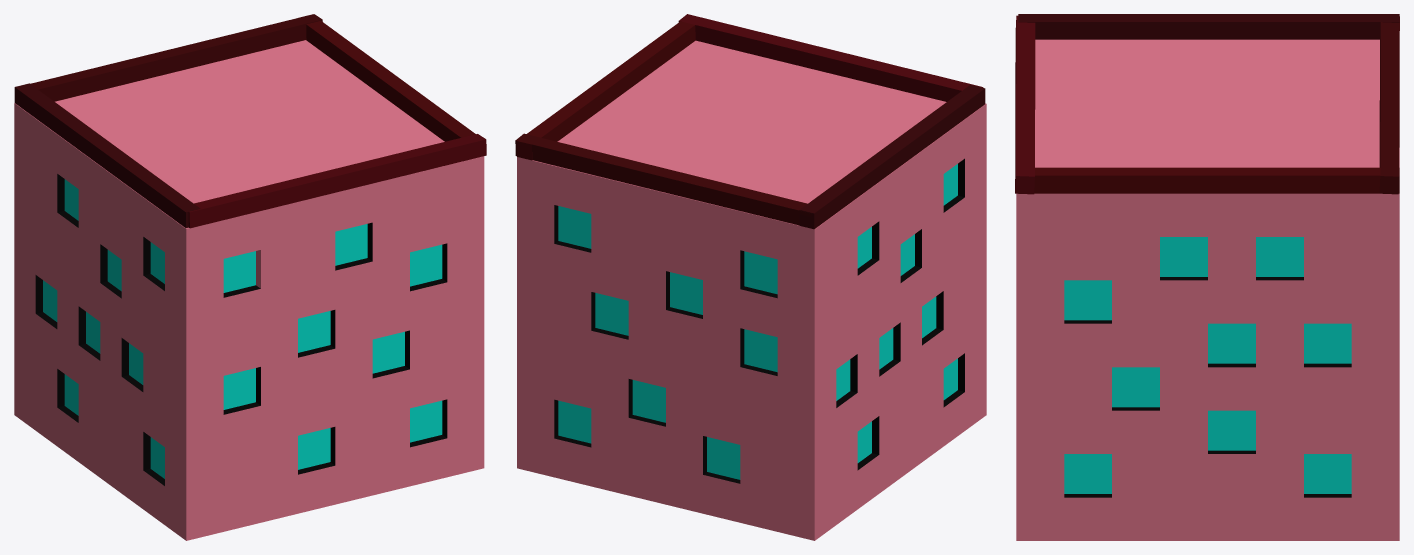
File: building 12 (pink).fbx
The picture shows the model from 3 angles, left to right: view 1: azimuth 30°, elevation 25°; view 2: azimuth 150°, elevation 25°; view 3: azimuth 270°, elevation 25°; orthographic projection. The views are drawn at different scales.
Visible parts, largest first — view 1: Cube, Cube.004, Cube.003, Cube.002, Cube.001; view 2: Cube, Cube.003, Cube.004, Cube.002, Cube.001; view 3: Cube, Cube.001, Cube.002, Cube.004, Cube.003.
Boxes of the visible parts, x1=… form: Cube: x1=14, y1=40, x2=484, y2=540; Cube.004: x1=188, y1=134, x2=486, y2=228; Cube.003: x1=30, y1=14, x2=322, y2=101; Cube.002: x1=14, y1=83, x2=200, y2=227; Cube.001: x1=306, y1=21, x2=475, y2=141; Cube: x1=517, y1=40, x2=986, y2=540; Cube.003: x1=515, y1=133, x2=811, y2=225; Cube.004: x1=678, y1=14, x2=983, y2=101; Cube.002: x1=799, y1=85, x2=985, y2=229; Cube.001: x1=517, y1=21, x2=695, y2=160; Cube: x1=1016, y1=39, x2=1399, y2=540; Cube.001: x1=1034, y1=167, x2=1399, y2=193; Cube.002: x1=1018, y1=14, x2=1399, y2=39; Cube.004: x1=1015, y1=15, x2=1035, y2=194; Cube.003: x1=1379, y1=16, x2=1399, y2=194.
Bounding box in the file's own units: 1111 × 1163 × 1108.
